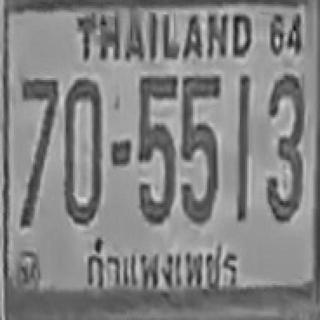N00: (63, 77, 104, 226)
N01: (235, 73, 252, 220)
N03: (264, 75, 304, 223)
N05: (181, 75, 222, 224), (138, 75, 178, 224)
N07: (22, 77, 59, 230)
P16: (79, 234, 250, 302)
